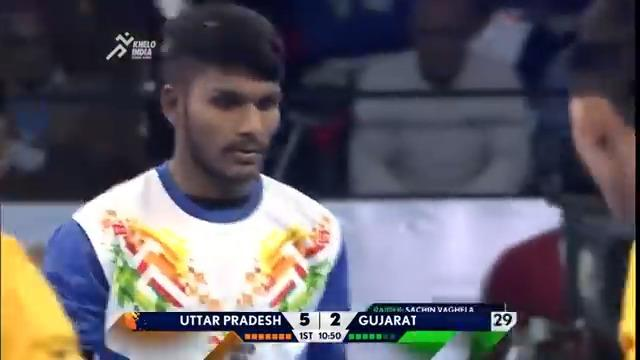Raider: (41, 3, 351, 357)
